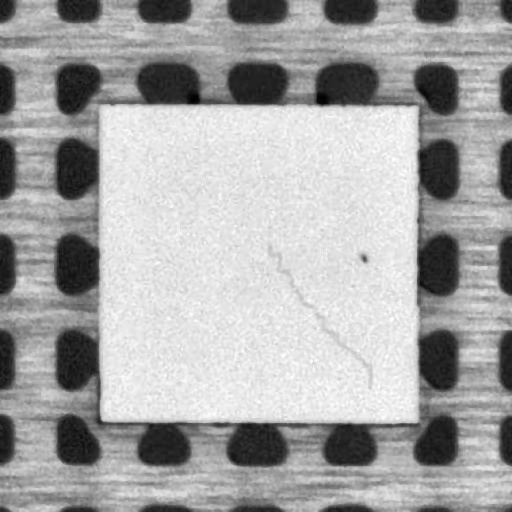DIE_CRACK: (264, 246, 378, 390)
